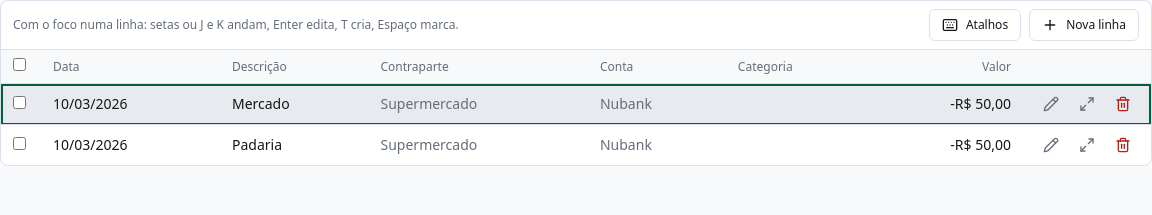
Scenario: Esc cancela a edicao, descarta o que foi digitado e volta o foco para a mesma linha
The image size is (1152, 215).
Press Enter
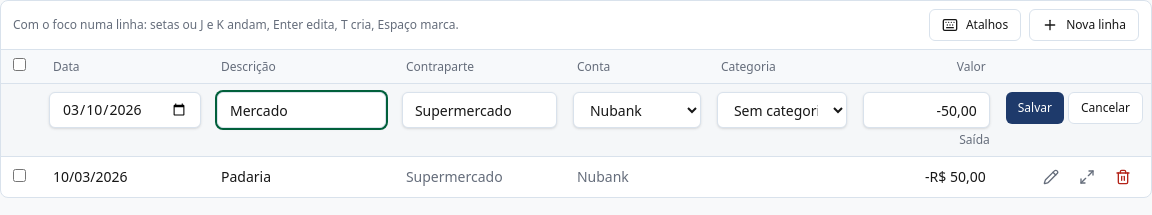
Type " alterado" into the field named "Descrição". click: (301, 110)
box: [217,92,386,128]
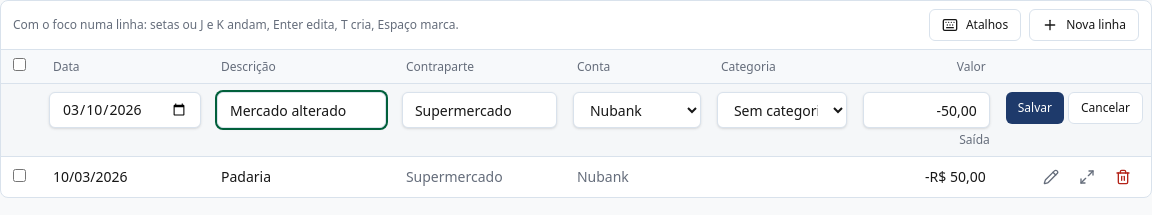
Press Escape
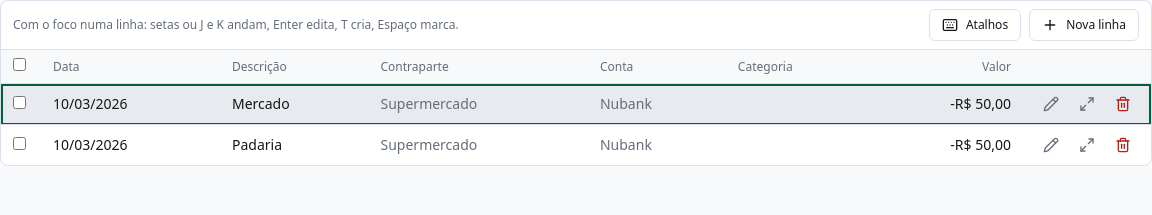
Expected: the row "10/03/2026 Mercado Supermercado Nubank -R$ 50,00" is shown, [1,84,1151,124]
